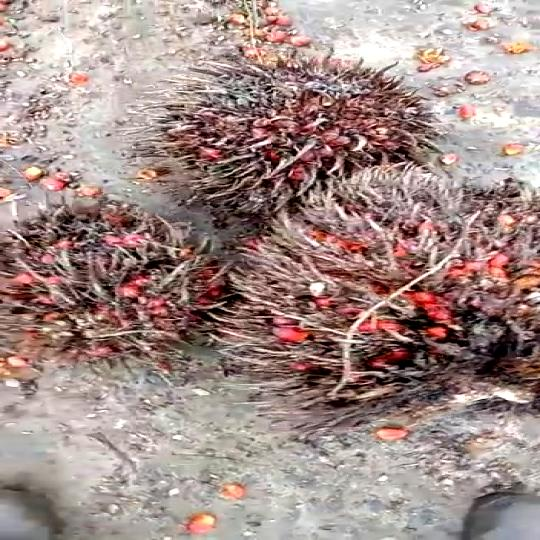terlalu masak: (207, 195, 540, 403), (154, 53, 425, 207), (0, 203, 247, 352)
